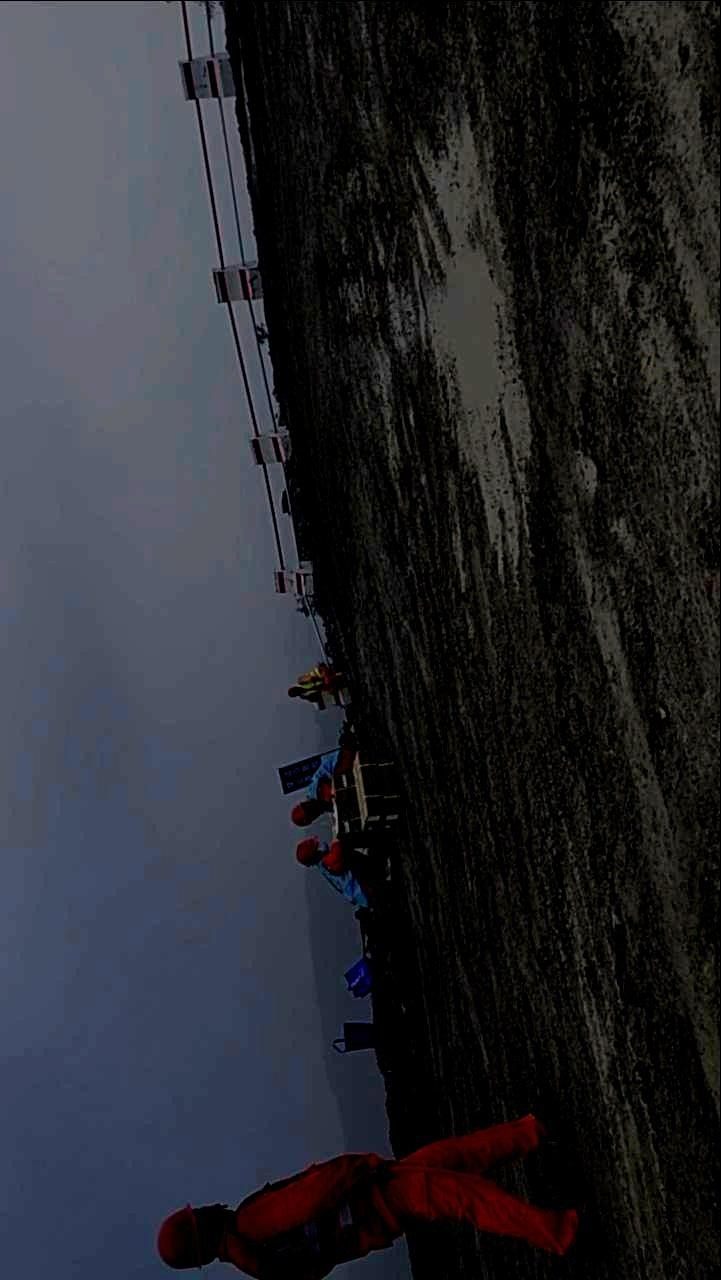helmet: (156, 1202, 234, 1269), (296, 835, 329, 868), (290, 800, 323, 827), (288, 686, 302, 697)
